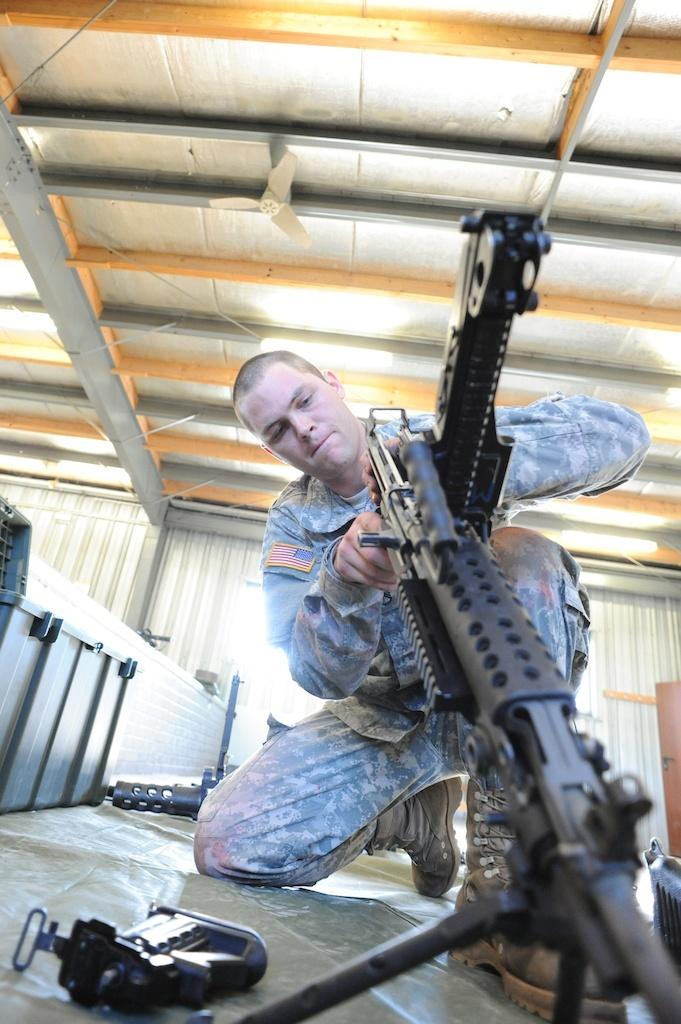Rifle: (280, 296, 643, 1024)
